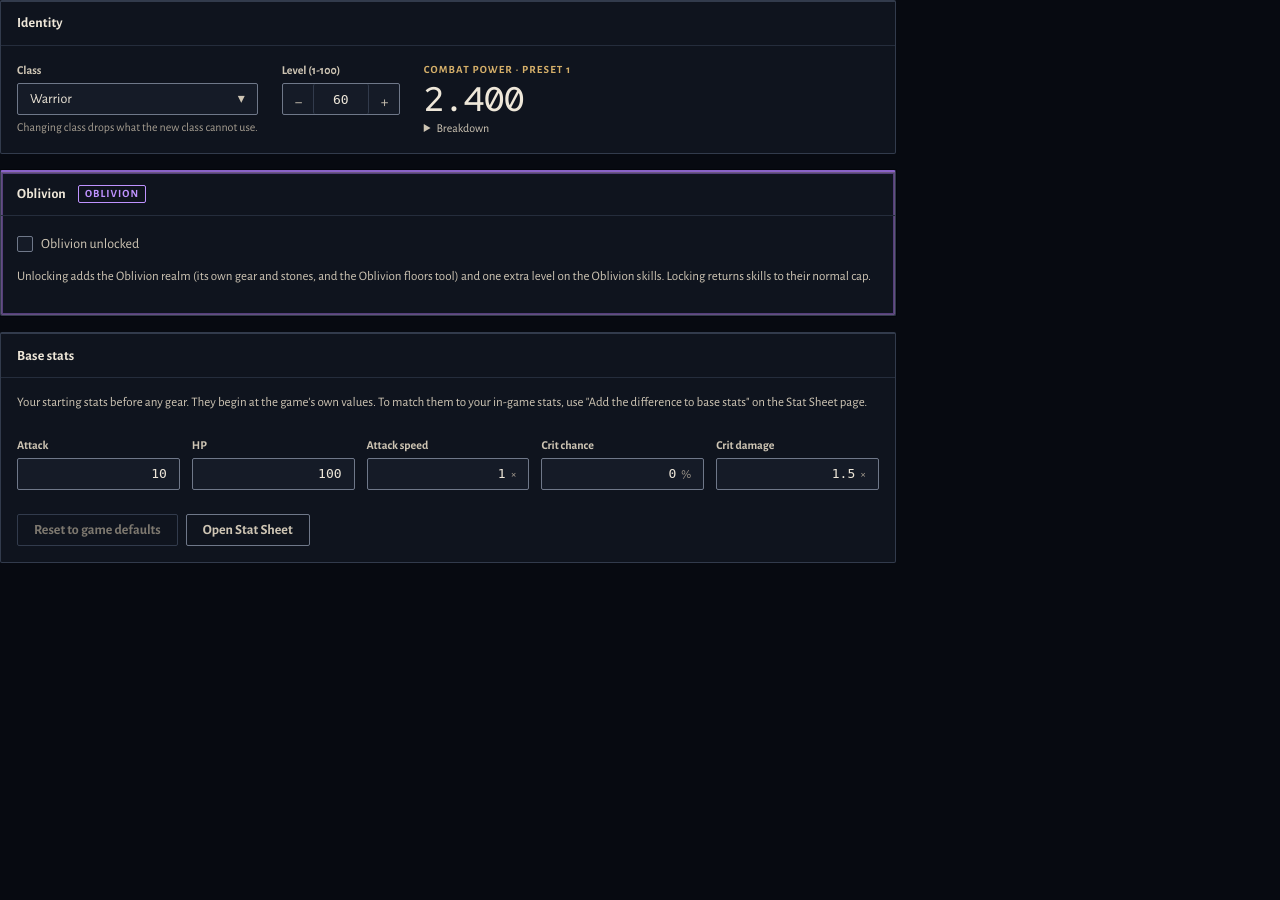
Scenario: lowering the level below an unlock gate: Transcendence stops counting, Set B and mounts are flagged
The width and height of the screenshot is (1280, 900).
Step 1. Replace the text in the number field named "Level" with "30" → (341, 99), box [313,84,369,114]
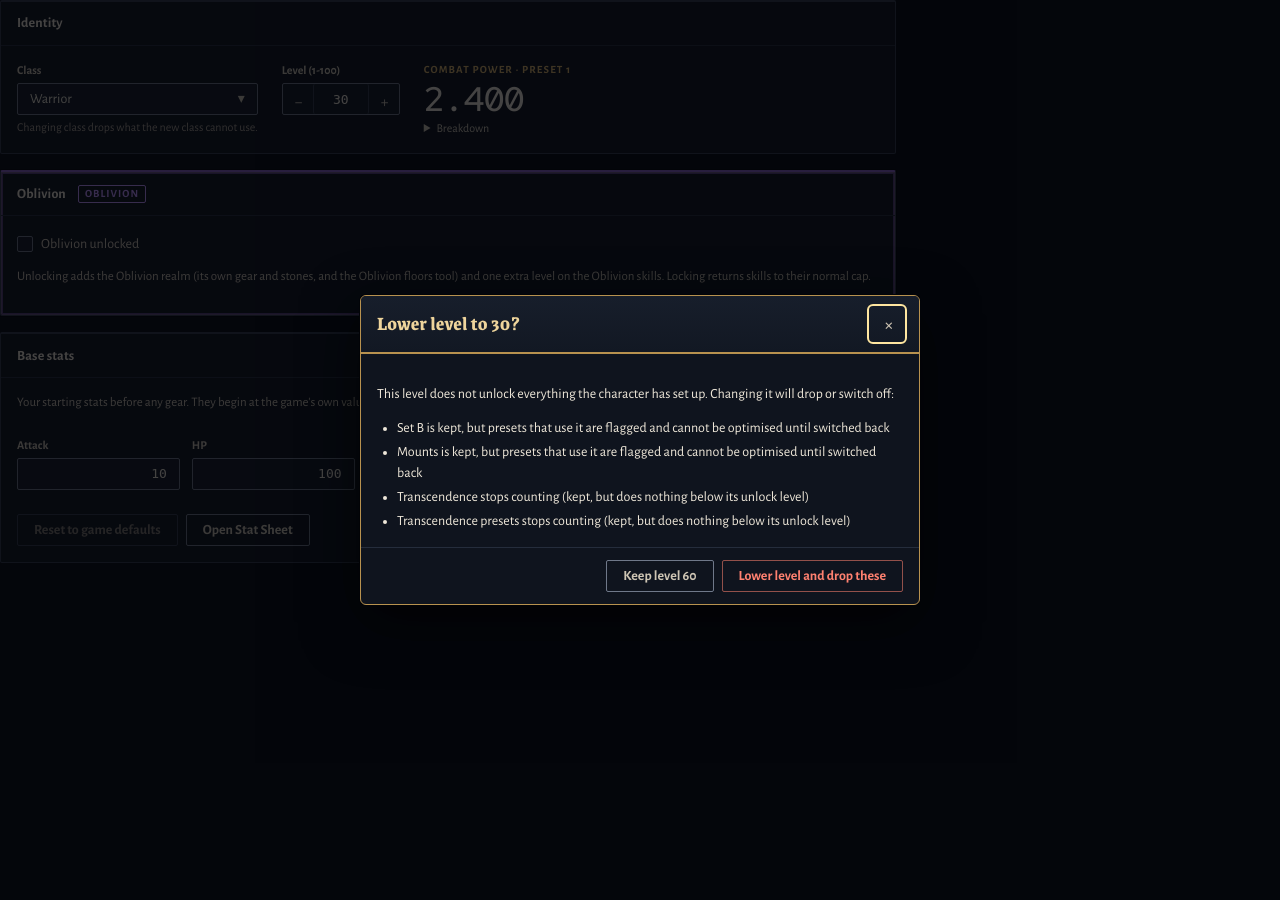
expect the dialog shows "Transcendence stops counting": met, box [397,490,809,504]
expect the dialog shows "Transcendence presets stops counting": met, box [397,514,851,528]
expect the dialog shows "Set B is kept, but presets that use it are flagged": met, box [397,421,890,435]
